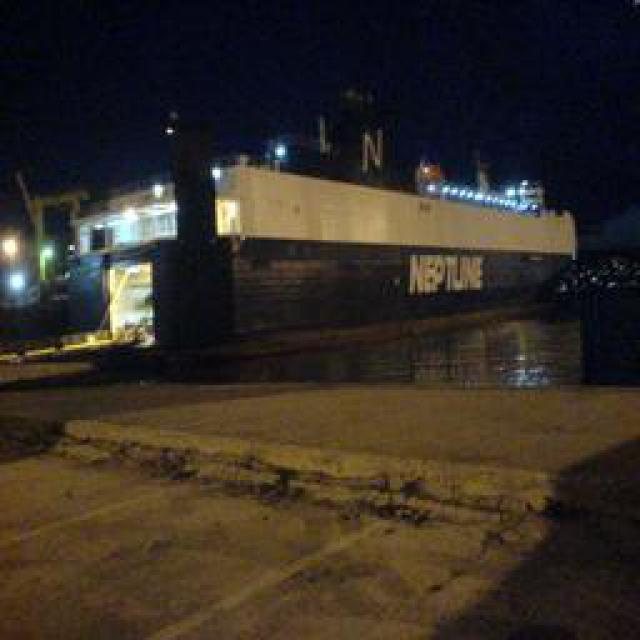Ship: (40, 72, 606, 376)
